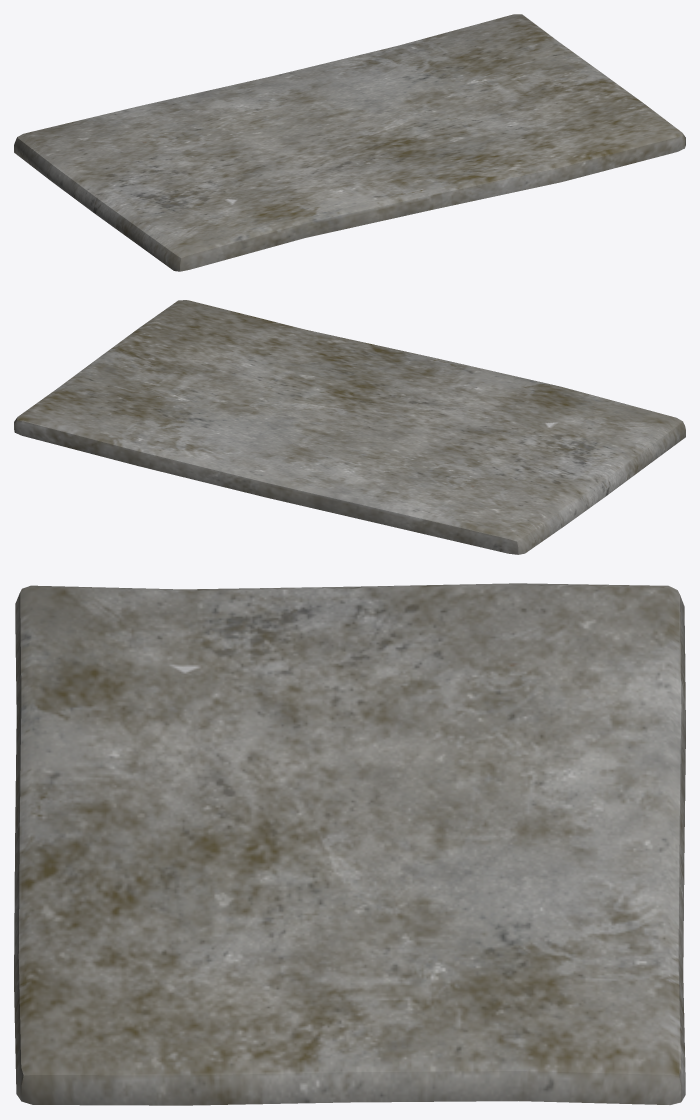
3 views of the same model, one above another, from view 1: azimuth 30°, elevation 25°; view 2: azimuth 150°, elevation 25°; view 3: azimuth 270°, elevation 25° (orthographic). The views are drawn at different scales.
Visible parts, largest first — view 1: Plane058_Material_0_0; view 2: Plane058_Material_0_0; view 3: Plane058_Material_0_0.
Boxes of the visible parts, left/top/right/bottom form: Plane058_Material_0_0: left=14, top=14, right=685, bottom=271; Plane058_Material_0_0: left=14, top=300, right=685, bottom=554; Plane058_Material_0_0: left=14, top=583, right=685, bottom=1105.
Bounding box in the file's own units: 0.358 × 0.0152 × 0.2042.
Materials: 1 (1 with a texture image).
